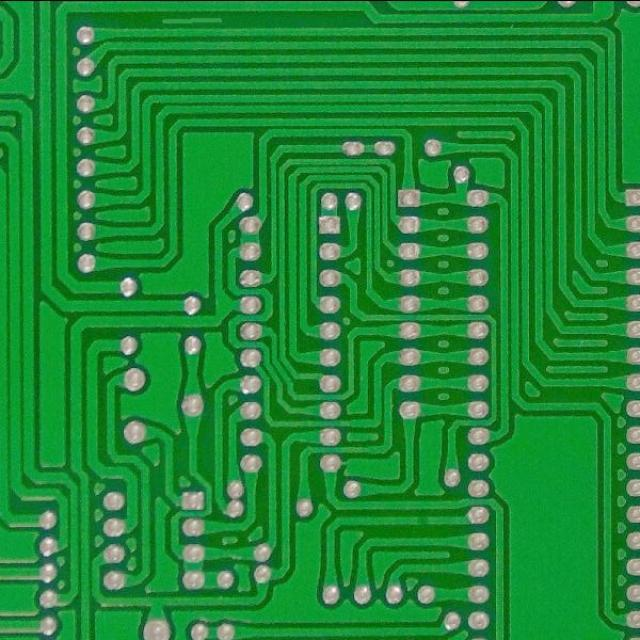Spurious_Cooper: (158, 12, 224, 26)
